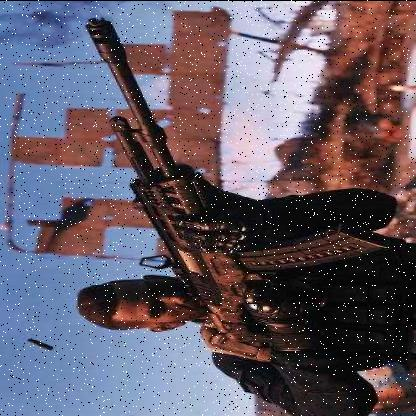rifle: (53, 17, 380, 339)
